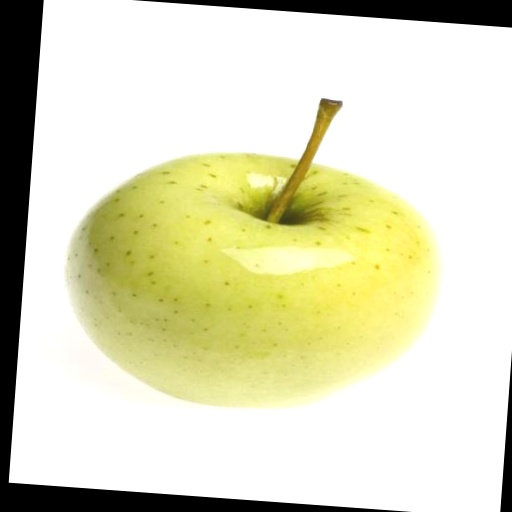fruit: (64, 152, 444, 407)
